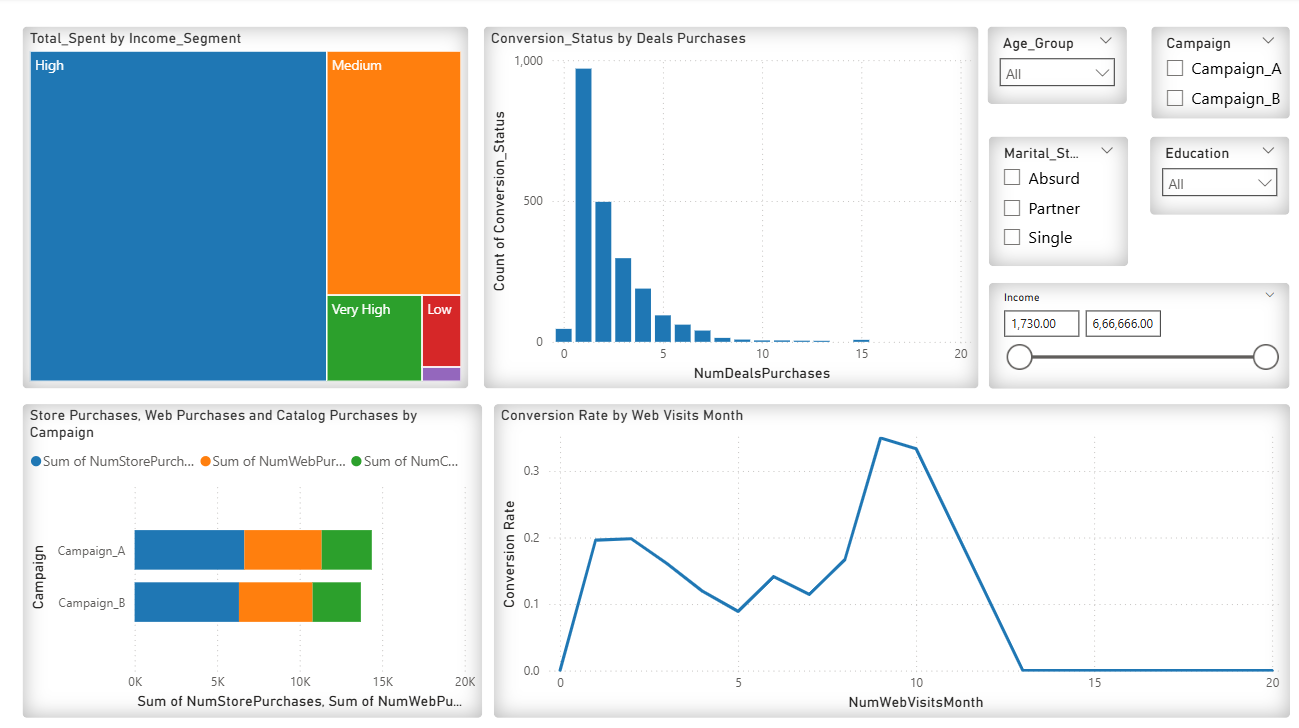

Layout of this report page (visuals, bound fields, positions):
{"tool":"powerbi","page":{"name":"Page 2","canvas":[1280,720],"ordinal":1},"visuals":[{"type":"treemap","title":"Total_Spent by Income_Segment","fields":{"Group":["marketing_campaign_powerbi_ready.Income_Segment"],"Values":["Sum(marketing_campaign_powerbi_ready.Total_Spent)"]},"box":[23.3,28.2,439.3,357.1],"z":0},{"type":"barChart","title":"Store Purchases, Web Purchases and Catalog Purchases by Campaign","fields":{"Y":["Sum(marketing_campaign_powerbi_ready.NumStorePurchases)","Sum(marketing_campaign_powerbi_ready.NumWebPurchases)","Sum(marketing_campaign_powerbi_ready.NumCatalogPurchases)"],"Category":["marketing_campaign_powerbi_ready.Campaign"]},"box":[23.3,398.8,452.8,309.2],"z":1000},{"type":"lineChart","title":"Conversion Rate by Web Visits Month","fields":{"Category":["marketing_campaign_powerbi_ready.NumWebVisitsMonth"],"Y":["marketing_campaign_powerbi_ready.Conversion Rate"]},"box":[485.9,398.8,782.8,309.2],"z":2000},{"type":"clusteredColumnChart","title":"Conversion_Status by Deals Purchases","fields":{"Category":["marketing_campaign_powerbi_ready.NumDealsPurchases"],"Y":["CountNonNull(marketing_campaign_powerbi_ready.Conversion_Status)"]},"box":[476.1,28.2,487.1,357.1],"z":3000},{"type":"slicer","fields":{"Values":["marketing_campaign_powerbi_ready.Campaign"]},"box":[1131.3,28.2,137.4,92],"z":4000},{"type":"slicer","fields":{"Values":["marketing_campaign_powerbi_ready.Age_Group"]},"box":[970.6,28.2,138.7,77.3],"z":5000},{"type":"slicer","fields":{"Values":["marketing_campaign_powerbi_ready.Education"]},"box":[1130.1,136.2,138.7,78.5],"z":6000},{"type":"slicer","fields":{"Values":["marketing_campaign_powerbi_ready.Income"]},"box":[971.8,279.8,296.9,105.5],"z":7000},{"type":"slicer","fields":{"Values":["marketing_campaign_powerbi_ready.Marital_Status"]},"box":[971.8,136.2,138.7,128.8],"z":8000}]}

Visuals, with their boxes in screenshot pixels (x1, y1, x2, y2), scaled from the page's 1280x720 canvas onto the 1299x728 screenshot:
"Total_Spent by Income_Segment" treemap: (left=24, top=29, right=469, bottom=390)
"Store Purchases, Web Purchases and Catalog Purchases by Campaign" barChart: (left=24, top=403, right=483, bottom=716)
"Conversion Rate by Web Visits Month" lineChart: (left=493, top=403, right=1288, bottom=716)
"Conversion_Status by Deals Purchases" clusteredColumnChart: (left=483, top=29, right=977, bottom=390)
slicer - marketing_campaign_powerbi_ready.Campaign: (left=1148, top=29, right=1288, bottom=122)
slicer - marketing_campaign_powerbi_ready.Age_Group: (left=985, top=29, right=1126, bottom=107)
slicer - marketing_campaign_powerbi_ready.Education: (left=1147, top=138, right=1288, bottom=217)
slicer - marketing_campaign_powerbi_ready.Income: (left=986, top=283, right=1288, bottom=390)
slicer - marketing_campaign_powerbi_ready.Marital_Status: (left=986, top=138, right=1127, bottom=268)
